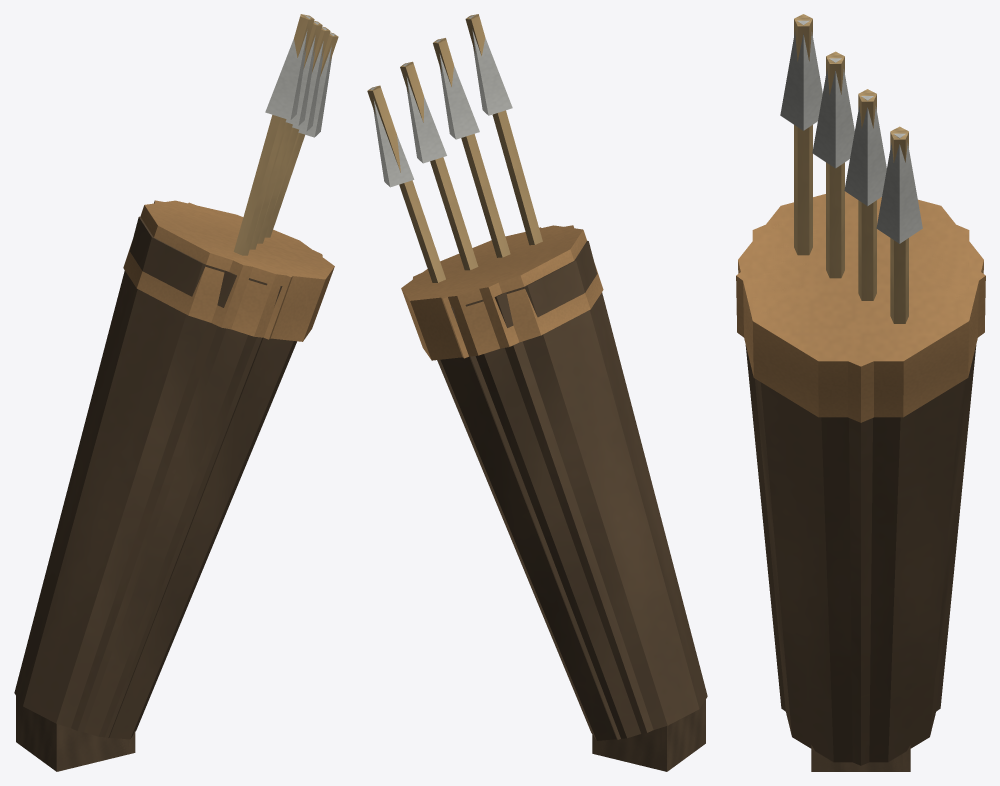
Rendered from RangedQuiver.fbx.
3 views of the same model, side by side, from view 1: azimuth 30°, elevation 25°; view 2: azimuth 150°, elevation 25°; view 3: azimuth 270°, elevation 25° (orthographic). The views are drawn at different scales.
Visible parts, largest first — view 1: RangedQuiverDetail0, RangedQuiverDetail1, RangedQuiverDetail2; view 2: RangedQuiverDetail0, RangedQuiverDetail1, RangedQuiverDetail2; view 3: RangedQuiverDetail0, RangedQuiverDetail1, RangedQuiverDetail2.
Boxes of the visible parts, x1,y1,x2,y2 form: RangedQuiverDetail0: (14,14,338,769); RangedQuiverDetail1: (16,200,322,771); RangedQuiverDetail2: (105,202,321,738); RangedQuiverDetail0: (367,14,707,770); RangedQuiverDetail1: (410,225,705,771); RangedQuiverDetail2: (414,227,620,739); RangedQuiverDetail0: (738,14,983,771); RangedQuiverDetail1: (752,192,969,771); RangedQuiverDetail2: (736,194,985,711).
Size of the model in its own units: 42 by 85.27 by 22.6.
1 material, 1 textured.
